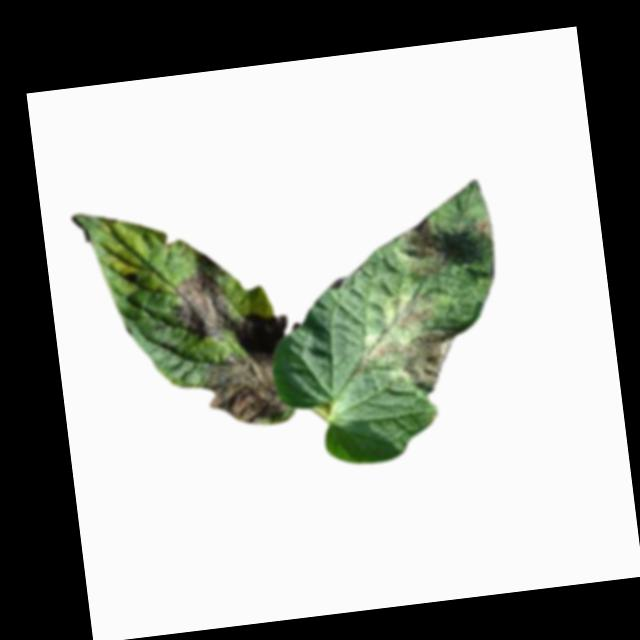Late_blight: (198, 309, 301, 432), (365, 326, 463, 399), (170, 270, 232, 345), (385, 289, 438, 334), (397, 215, 441, 263), (469, 215, 494, 241)
